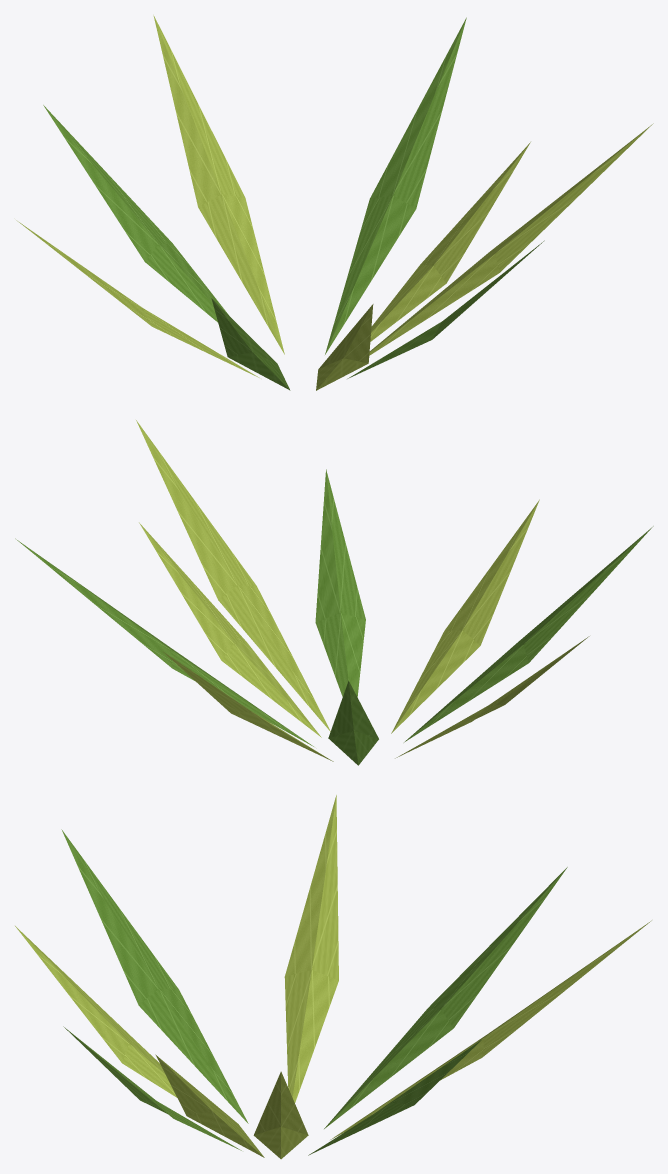
File: crop-garlic-young.glb
The picture shows the model from 3 angles, top to bottom: view 1: azimuth 30°, elevation 25°; view 2: azimuth 150°, elevation 25°; view 3: azimuth 270°, elevation 25°; orthographic projection. The views are drawn at different scales.
Parts seen in each view (by area): view 1: crop-garlic-young; view 2: crop-garlic-young; view 3: crop-garlic-young.
Boxes of the visible parts, x1=… form: crop-garlic-young: x1=16, y1=15, x2=653, y2=390; crop-garlic-young: x1=15, y1=420, x2=653, y2=765; crop-garlic-young: x1=15, y1=795, x2=651, y2=1159.
Size of the model in its own units: 0.7822 by 0.3002 by 0.7439.
1 material, 1 textured.
